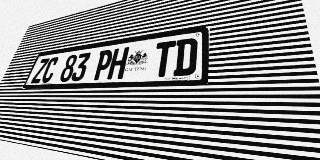3: (70, 52, 91, 81)
8: (58, 54, 79, 82)
C: (40, 57, 60, 83)
D: (173, 37, 198, 76)
H: (107, 47, 130, 80)
P: (92, 49, 114, 80)
T: (152, 40, 176, 77)
Z: (30, 58, 50, 83)
